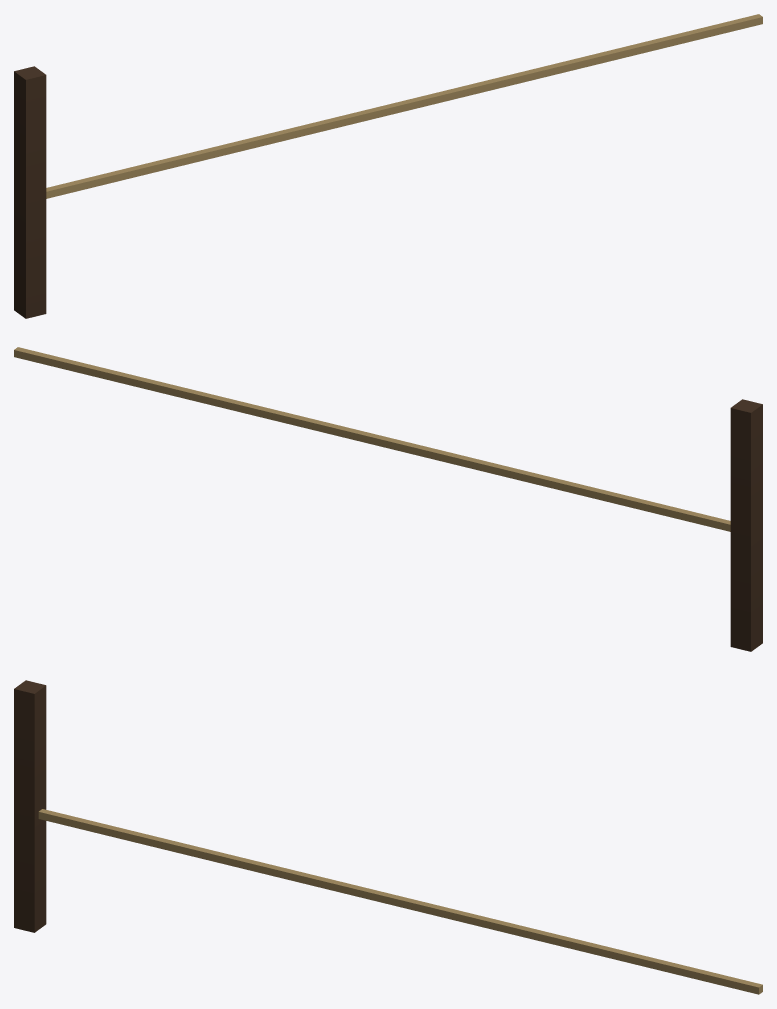
Rendered from caral_survey_stake_lod1.glb.
The picture shows the model from 3 angles, top to bottom: view 1: azimuth 30°, elevation 25°; view 2: azimuth 150°, elevation 25°; view 3: azimuth 330°, elevation 25°; orthographic projection.
Parts seen in each view (by area): view 1: GEO-Arch_survey_stake_LOD1; view 2: GEO-Arch_survey_stake_LOD1; view 3: GEO-Arch_survey_stake_LOD1.
Boxes of the visible parts, bbox=[...] form: GEO-Arch_survey_stake_LOD1: bbox=[14, 14, 762, 318]; GEO-Arch_survey_stake_LOD1: bbox=[14, 347, 762, 651]; GEO-Arch_survey_stake_LOD1: bbox=[14, 680, 762, 994].
Size of the model in its own units: 3.25 by 1 by 0.09.
